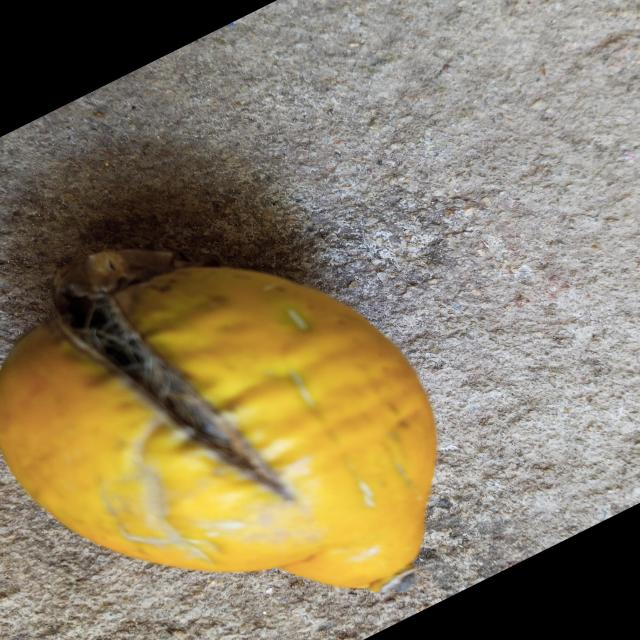damaged: (1, 268, 435, 591)
